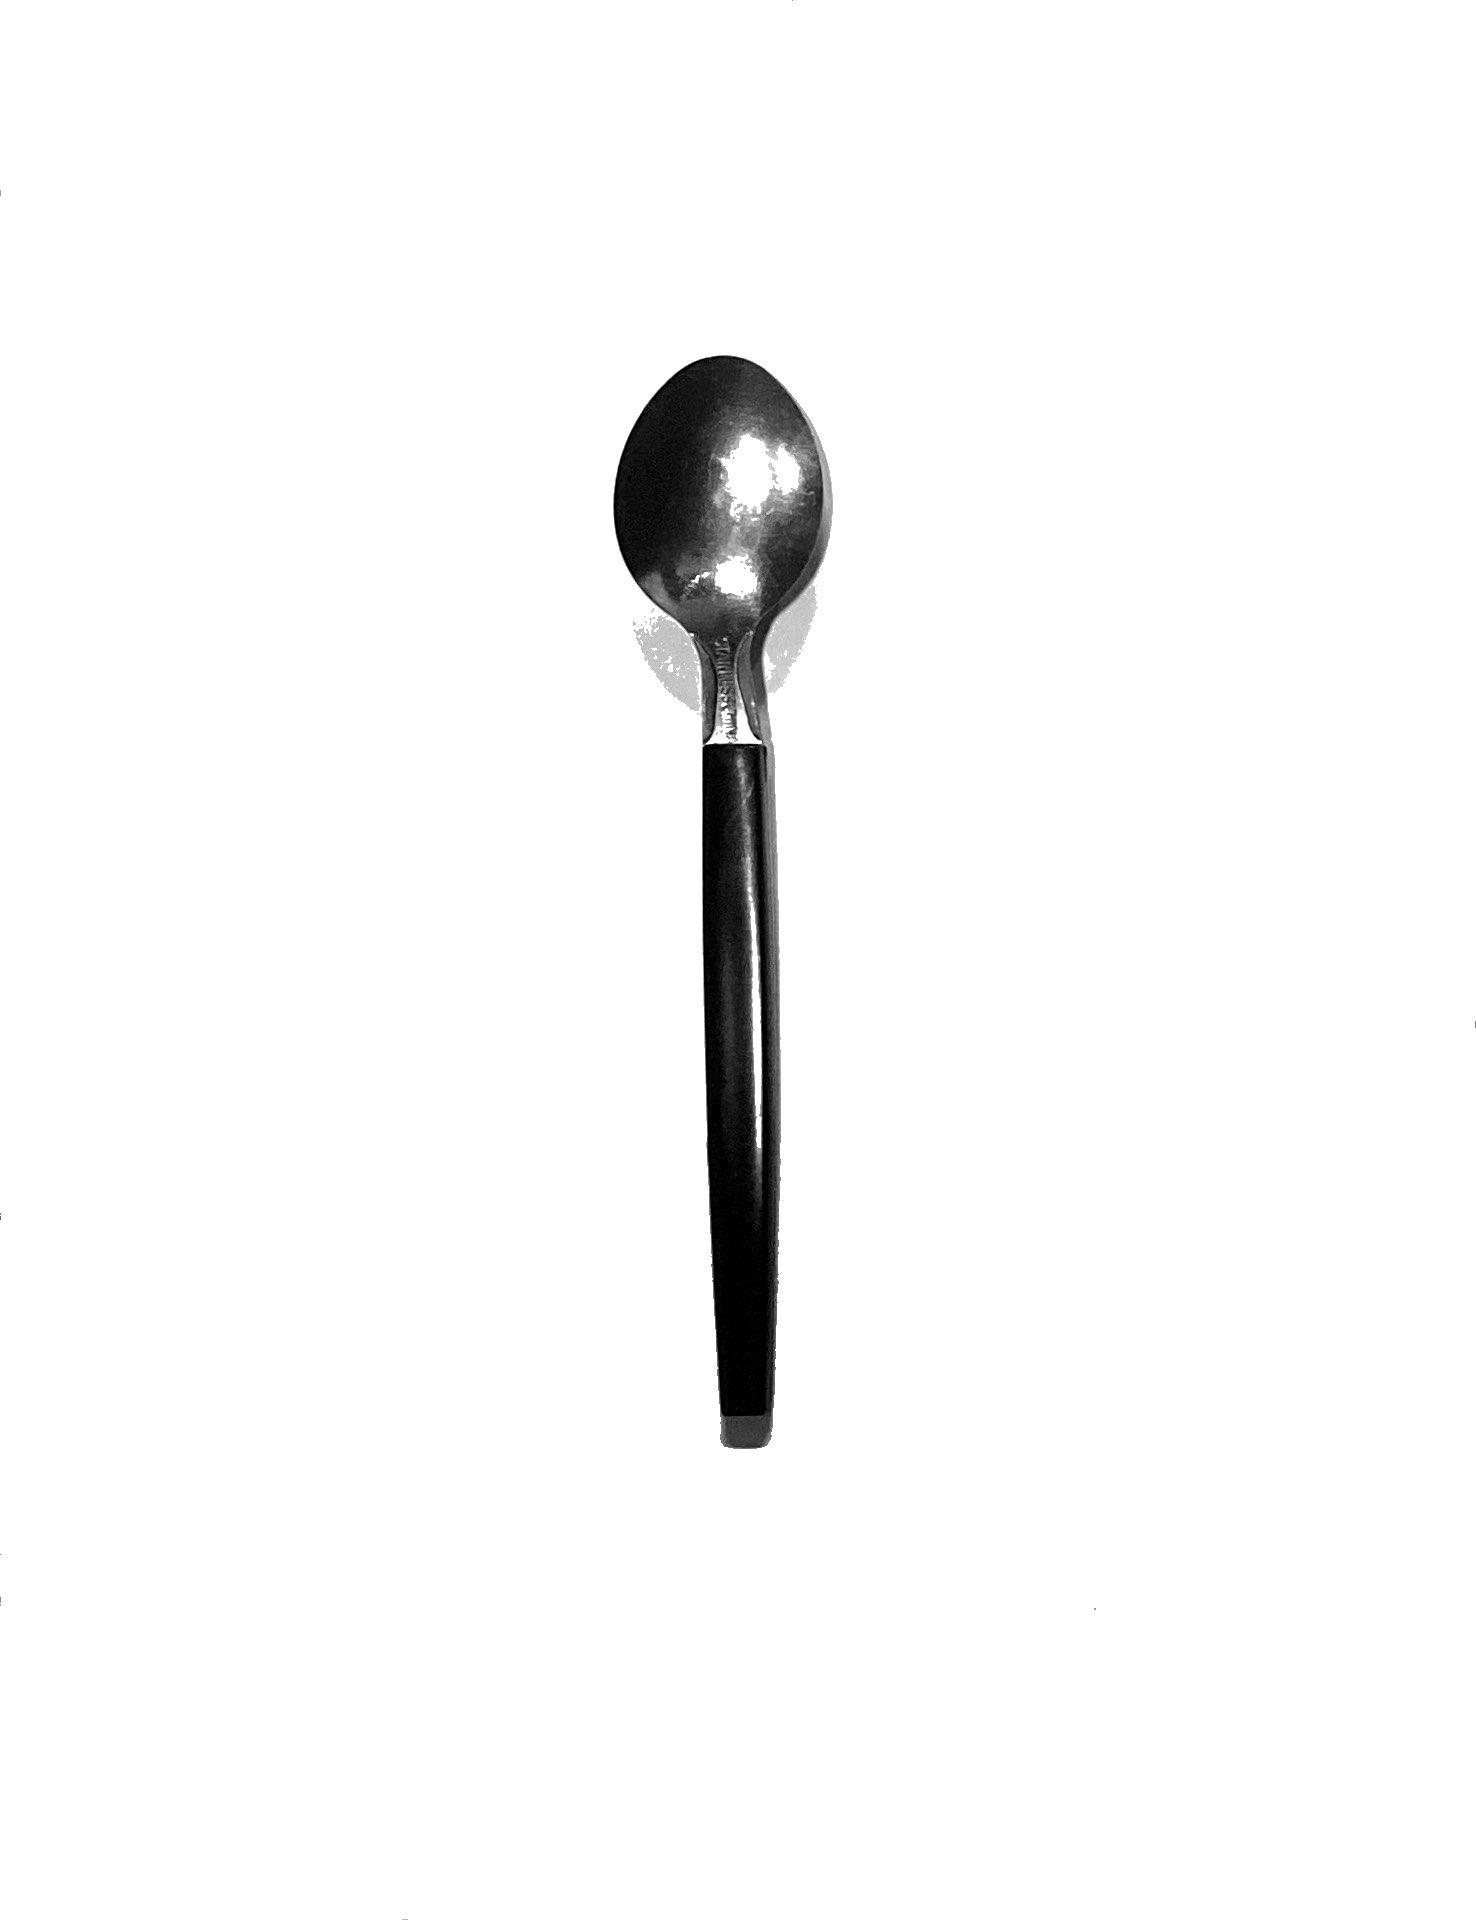Spoon: (533, 304, 1047, 1550)
